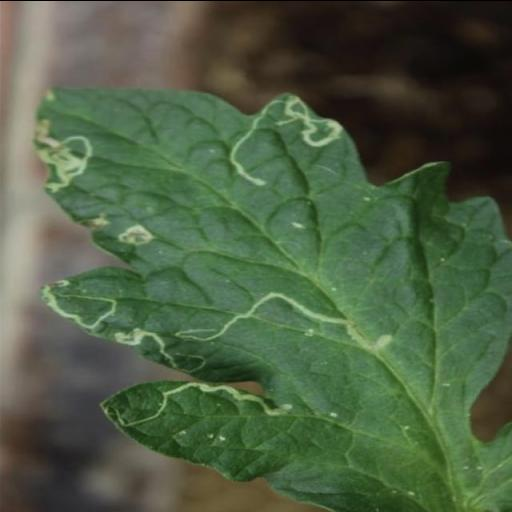disease_tomato: (32, 87, 512, 512)
